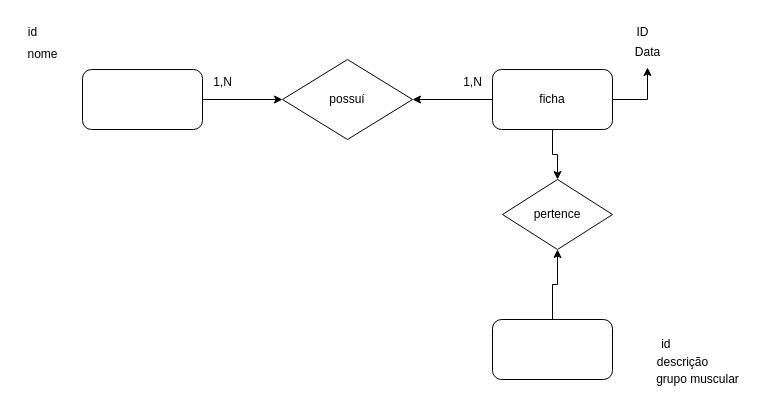
This 769x411 diagram has some shape labels left out. Here are the shapes that lost their labels. From the top down, the centre of each, then its label:
At point 142,99: "Aluno".
At point 552,349: "exercicio".
